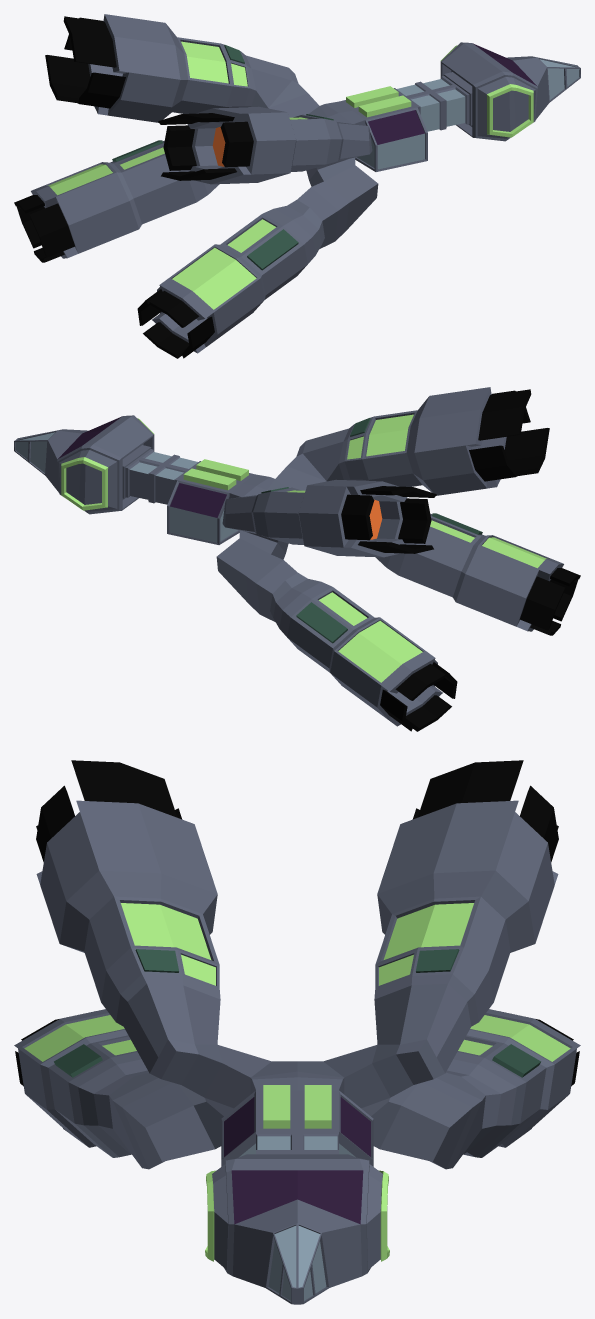
The model's file is Space Ship 1.fbx.
3 views of the same model, one above another, from view 1: azimuth 30°, elevation 25°; view 2: azimuth 150°, elevation 25°; view 3: azimuth 270°, elevation 25° (orthographic). The views are drawn at different scales.
Parts seen in each view (by area): view 1: Cube; view 2: Cube; view 3: Cube.
Boxes of the visible parts, <box> form: Cube: <box>14,14,580,358</box>; Cube: <box>14,387,580,731</box>; Cube: <box>14,760,580,1304</box>.
Size of the model in its own units: 355 by 160 by 219.
